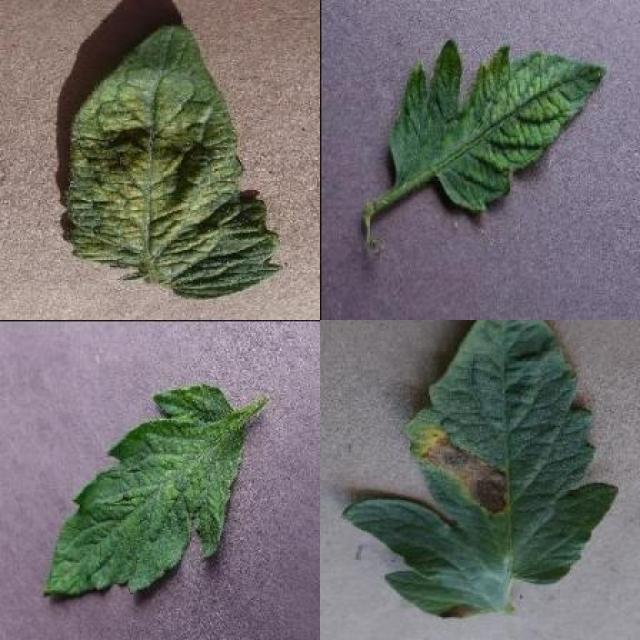Early Blight: (341, 320, 620, 620)
Mosaic Virus: (41, 381, 246, 598), (387, 37, 607, 213)
Spider Mites: (63, 25, 283, 302)
